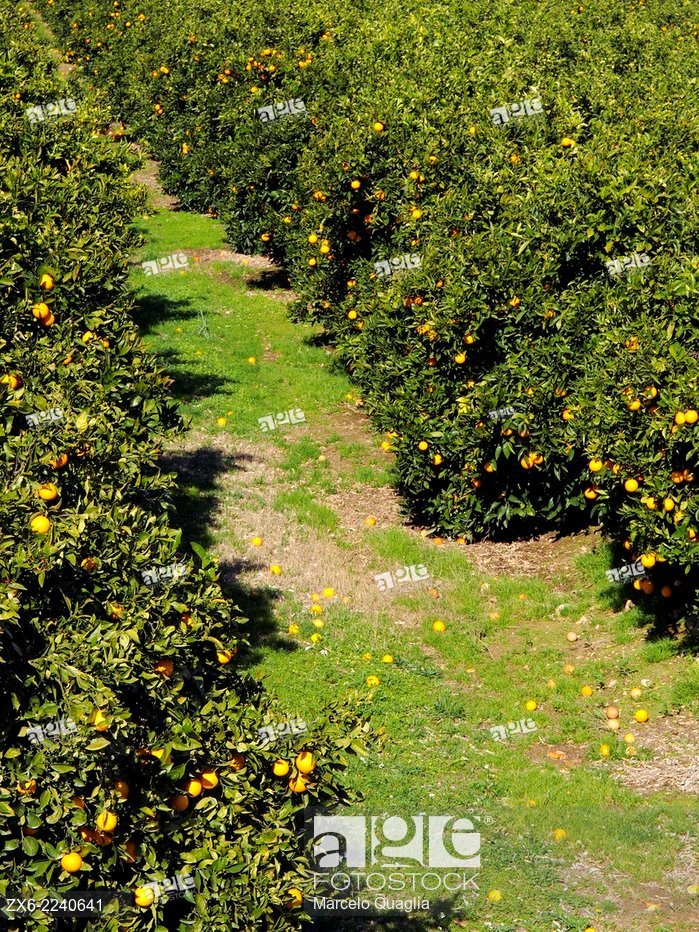orange: (58, 791, 88, 818), (150, 657, 176, 683), (90, 709, 112, 736), (133, 883, 156, 908), (92, 831, 118, 853), (176, 607, 198, 632), (268, 755, 290, 780), (35, 481, 59, 503), (101, 599, 123, 623), (289, 771, 311, 795), (30, 513, 52, 536), (76, 555, 99, 577), (294, 753, 316, 776), (118, 841, 140, 864), (74, 826, 95, 849), (1, 371, 21, 395), (16, 777, 40, 797), (198, 771, 220, 792), (110, 780, 130, 803), (168, 791, 187, 815), (94, 810, 112, 835), (284, 889, 306, 909), (39, 309, 58, 331), (210, 649, 232, 668), (62, 853, 81, 875), (21, 810, 38, 834), (47, 452, 68, 471), (30, 302, 50, 321), (38, 272, 56, 293), (183, 775, 201, 796), (218, 640, 238, 658), (94, 336, 114, 354), (228, 755, 246, 774), (552, 381, 571, 399), (56, 353, 74, 371), (350, 179, 368, 197), (640, 551, 657, 570), (682, 407, 698, 426), (529, 450, 546, 467), (516, 422, 533, 439), (588, 458, 604, 476), (82, 331, 98, 348), (624, 479, 641, 495), (583, 486, 599, 503), (560, 408, 576, 425), (602, 453, 619, 469), (483, 459, 498, 477), (646, 495, 660, 513), (461, 330, 476, 346), (612, 463, 628, 478), (661, 584, 675, 601), (624, 337, 639, 352), (452, 353, 466, 369), (502, 424, 516, 440), (370, 121, 385, 135), (682, 470, 696, 485), (468, 478, 482, 493), (430, 453, 444, 468), (655, 550, 668, 566), (472, 419, 485, 435), (673, 510, 686, 525), (642, 579, 654, 595), (644, 387, 657, 401), (672, 471, 685, 485), (632, 576, 645, 590), (520, 455, 533, 469), (661, 497, 673, 512), (623, 540, 636, 553), (418, 440, 431, 453), (319, 244, 332, 257), (508, 151, 521, 164), (407, 169, 419, 183), (434, 275, 446, 289), (674, 408, 684, 424), (630, 399, 642, 412), (526, 383, 538, 396), (508, 295, 521, 307), (466, 123, 478, 136), (307, 233, 318, 247), (347, 311, 358, 325), (560, 138, 574, 149), (426, 328, 438, 340), (446, 225, 458, 237), (259, 233, 270, 246), (423, 319, 436, 330), (372, 189, 385, 200), (686, 525, 696, 539), (412, 294, 424, 305), (543, 308, 555, 319), (426, 153, 437, 165), (623, 387, 634, 398), (426, 356, 437, 366), (466, 377, 476, 388), (321, 298, 331, 308), (354, 319, 364, 329), (346, 229, 356, 239), (351, 232, 361, 242), (283, 214, 292, 224), (313, 189, 322, 199), (346, 277, 356, 286), (416, 325, 426, 334), (411, 209, 420, 219), (408, 237, 418, 246), (362, 213, 372, 222), (403, 293, 412, 303), (349, 206, 360, 214), (11, 91, 20, 100), (262, 45, 271, 54), (267, 63, 276, 72), (425, 383, 434, 392), (308, 256, 316, 266), (544, 280, 552, 290), (392, 215, 402, 223), (250, 84, 258, 93), (298, 59, 306, 68), (221, 76, 229, 84), (305, 51, 313, 59), (304, 57, 312, 65), (152, 102, 160, 110), (155, 106, 163, 114), (182, 128, 190, 136), (290, 201, 298, 209), (319, 193, 327, 201), (406, 202, 415, 209), (224, 67, 231, 75), (245, 63, 252, 70), (151, 70, 158, 76), (163, 67, 169, 74), (194, 54, 200, 61), (217, 71, 223, 78), (159, 65, 164, 71)
